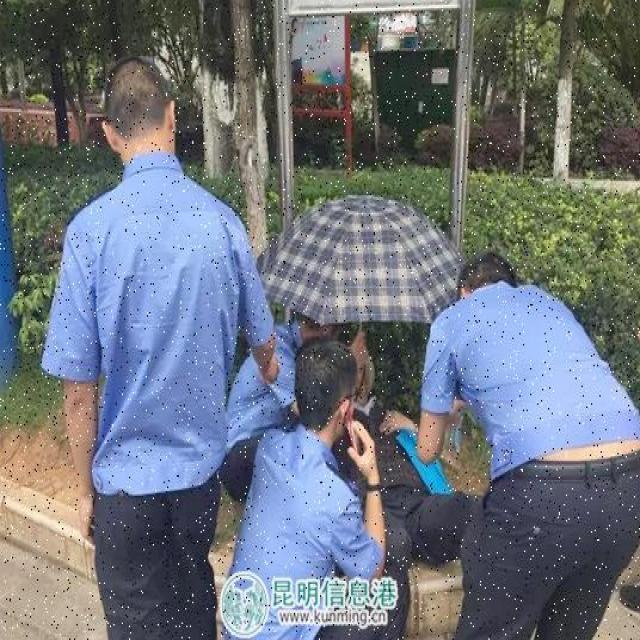fall: (336, 386, 476, 635)
